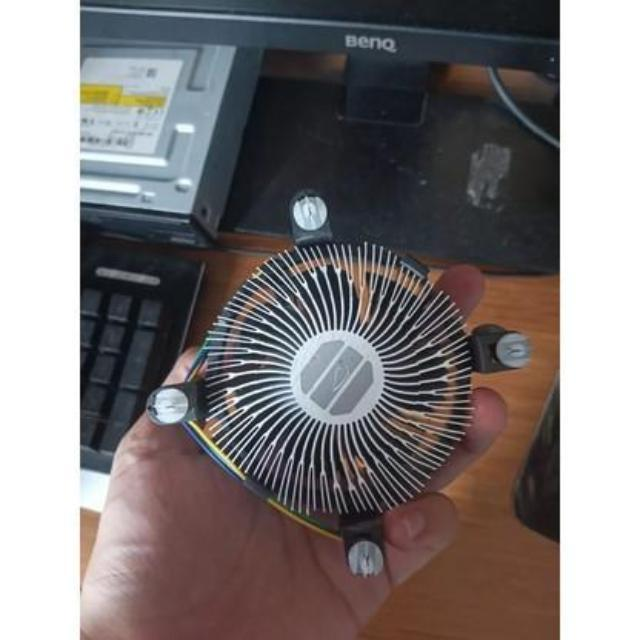CPU_Fan: (152, 202, 526, 580)
